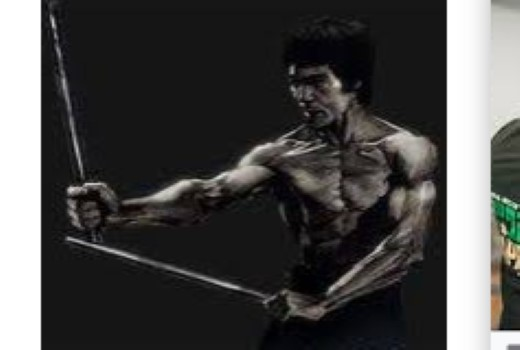baston_e: (112, 241, 254, 306), (44, 32, 94, 174)
baston_v: (40, 0, 65, 27), (86, 225, 106, 245), (60, 232, 75, 249)
